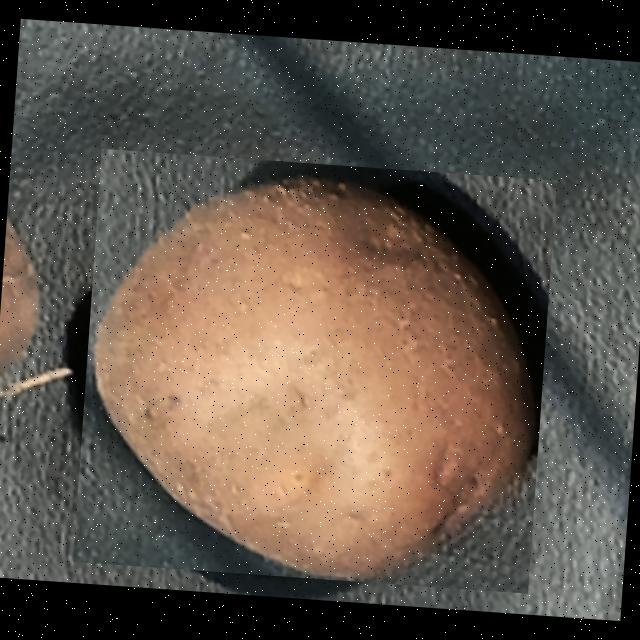Diseased-fungal potato: (72, 148, 556, 593)
